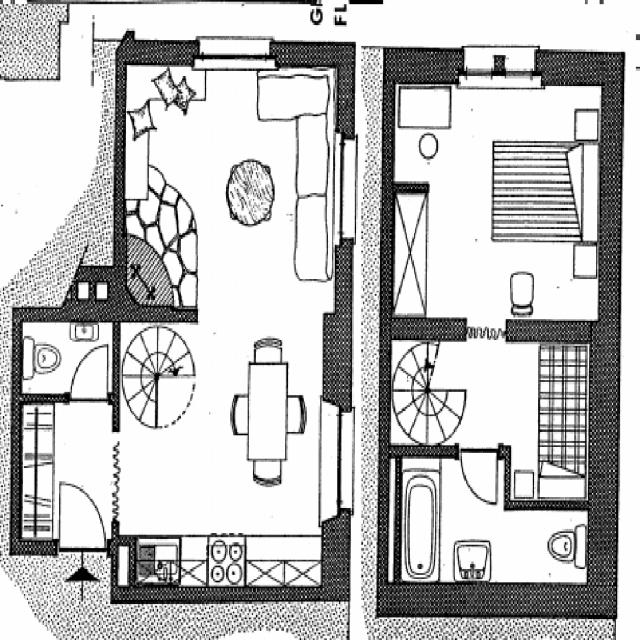door: (58, 470, 105, 556), (461, 444, 498, 510), (72, 344, 107, 403)
